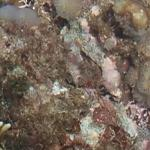dead: (10, 4, 146, 145)
